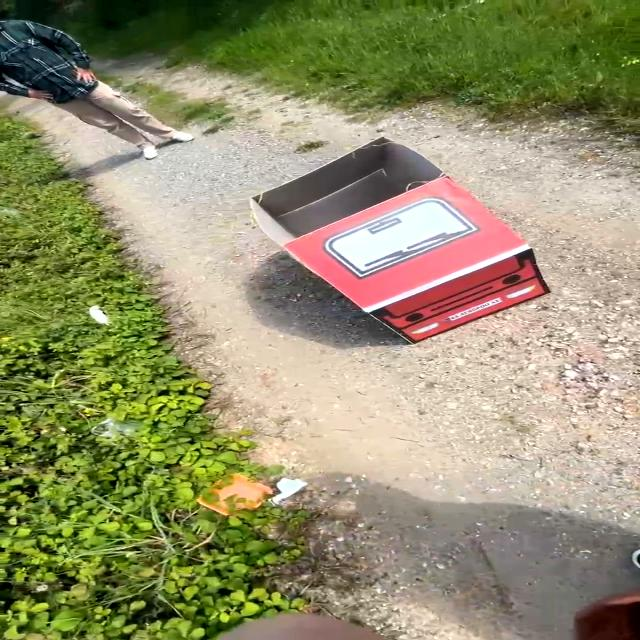red_car: (171, 135, 596, 358)
